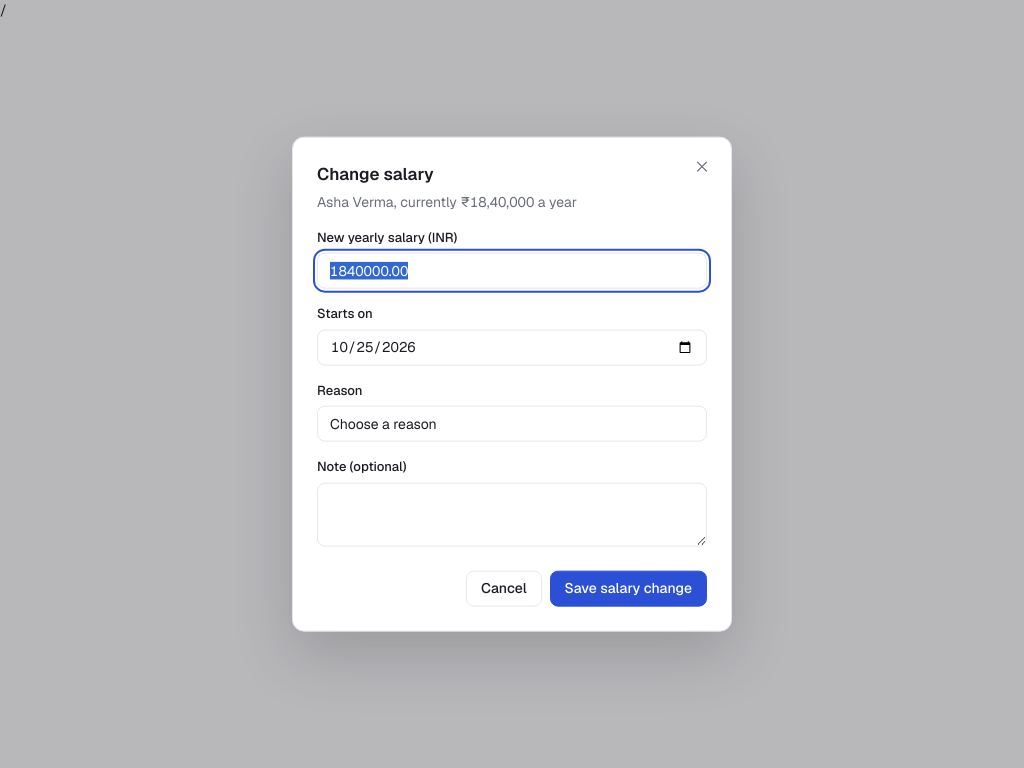
Test: Change salary › explains what is missing instead of sending
This screenshot has width=1024, height=768.
Clear the field labelled "New yearly salary (INR)" at (512, 271), box [317,253,707,289]
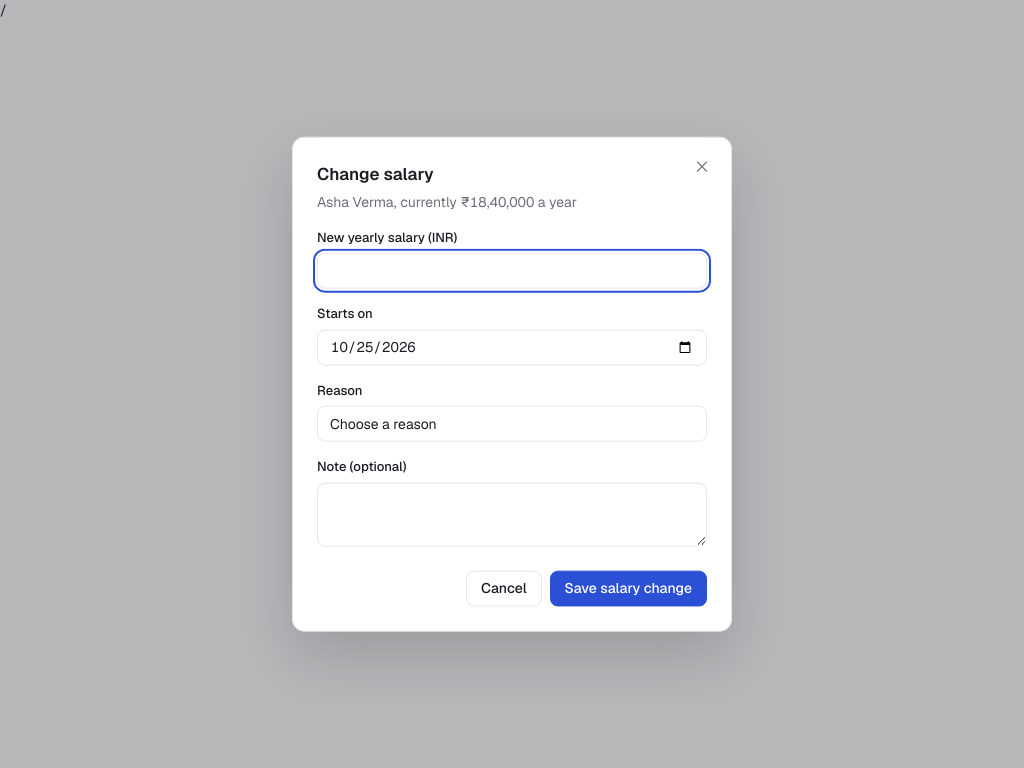
Click the button "Save salary change".
click(628, 588)  # box [550,570,707,606]
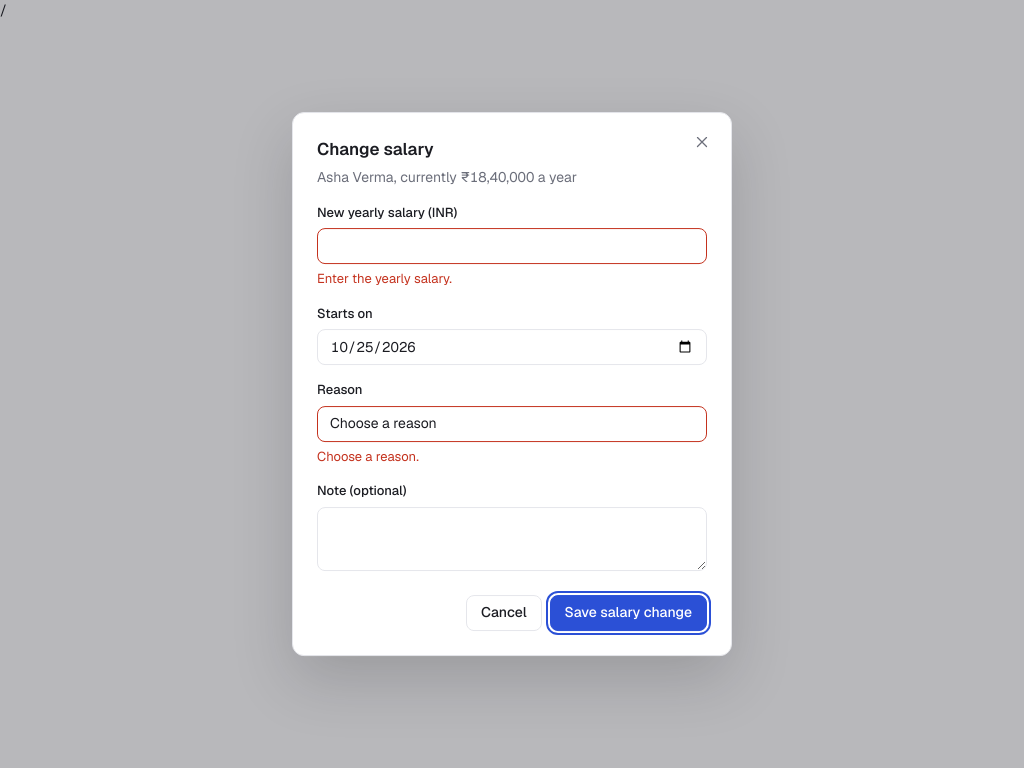
Check: the text "Enter the yearly salary." is shown, box [317,270,452,287]
Check: the text "Choose a reason." is shown, box [317,448,419,465]
